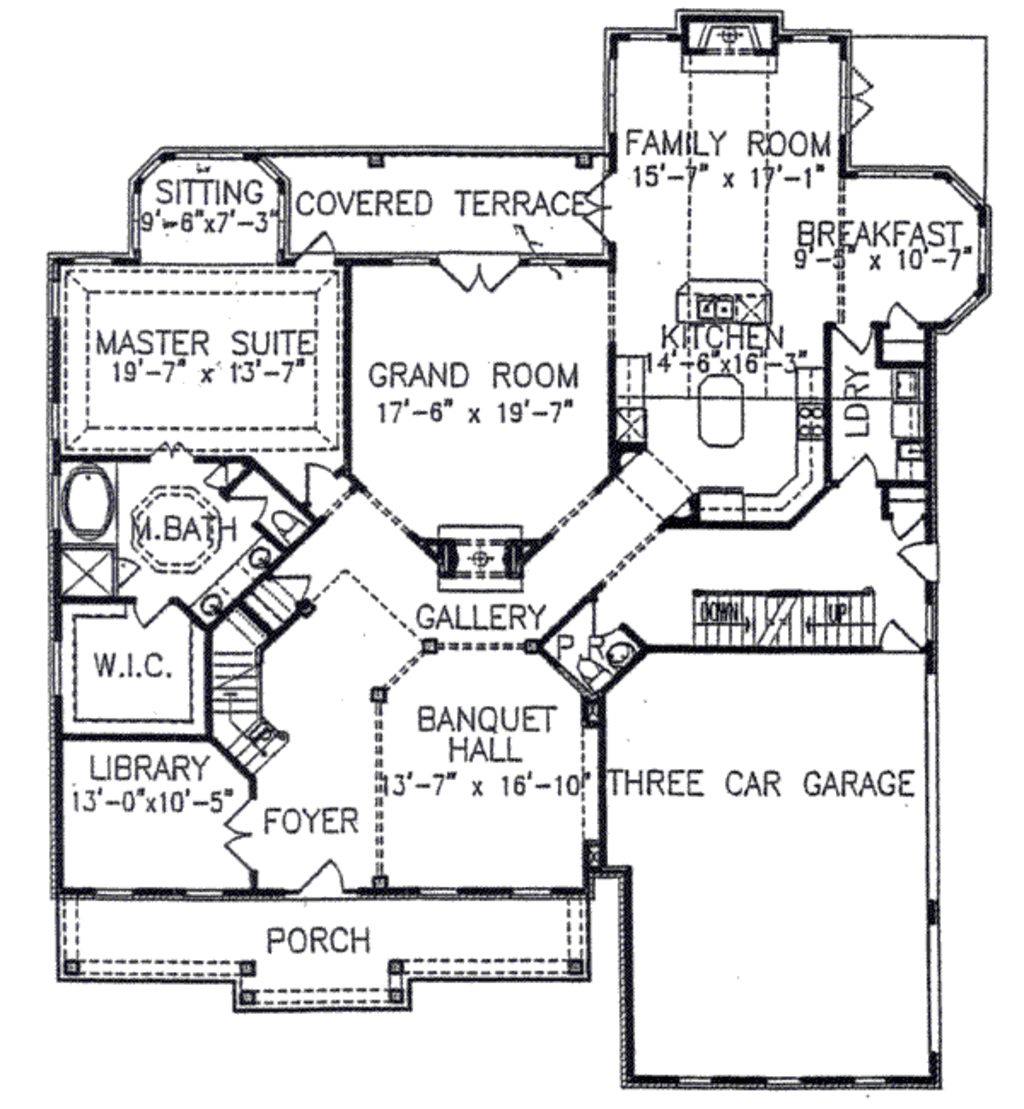door: (442, 251, 522, 296), (224, 802, 264, 878), (879, 614, 931, 668), (840, 65, 882, 129), (896, 538, 945, 592), (298, 856, 351, 903), (832, 454, 886, 494), (129, 590, 178, 632), (293, 460, 340, 498), (829, 320, 876, 355), (880, 294, 925, 329)
kitchen_bar: (668, 272, 778, 329)
large_sink: (569, 654, 619, 694), (268, 504, 308, 550)
stairs: (211, 578, 312, 768), (686, 581, 878, 657)
tub: (54, 452, 121, 544)
windows: (407, 877, 559, 911), (79, 881, 228, 912), (44, 636, 69, 700)
